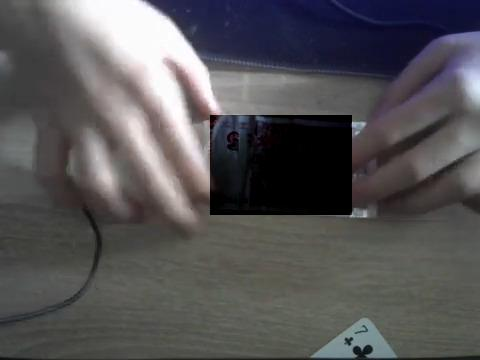5leva: (210, 115, 352, 215)
